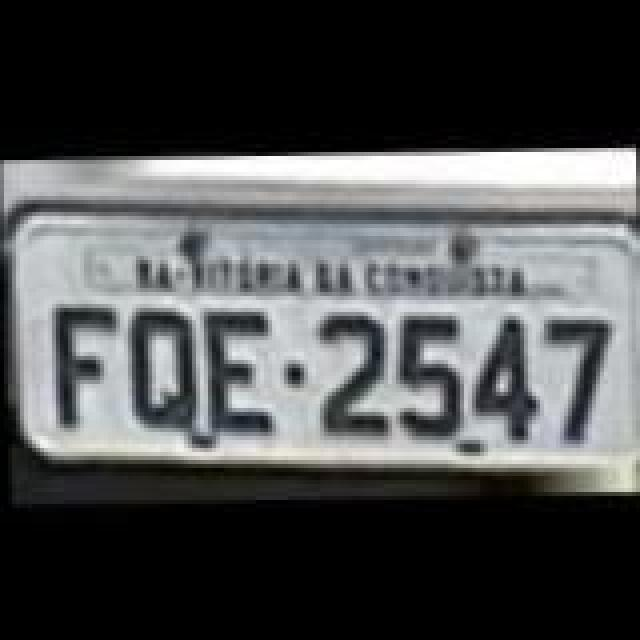2: (316, 304, 396, 444)
4: (466, 306, 542, 446)
5: (392, 308, 464, 444)
7: (534, 306, 618, 442)
E: (196, 300, 276, 440)
F: (44, 300, 124, 436)
Q: (124, 302, 204, 434)
